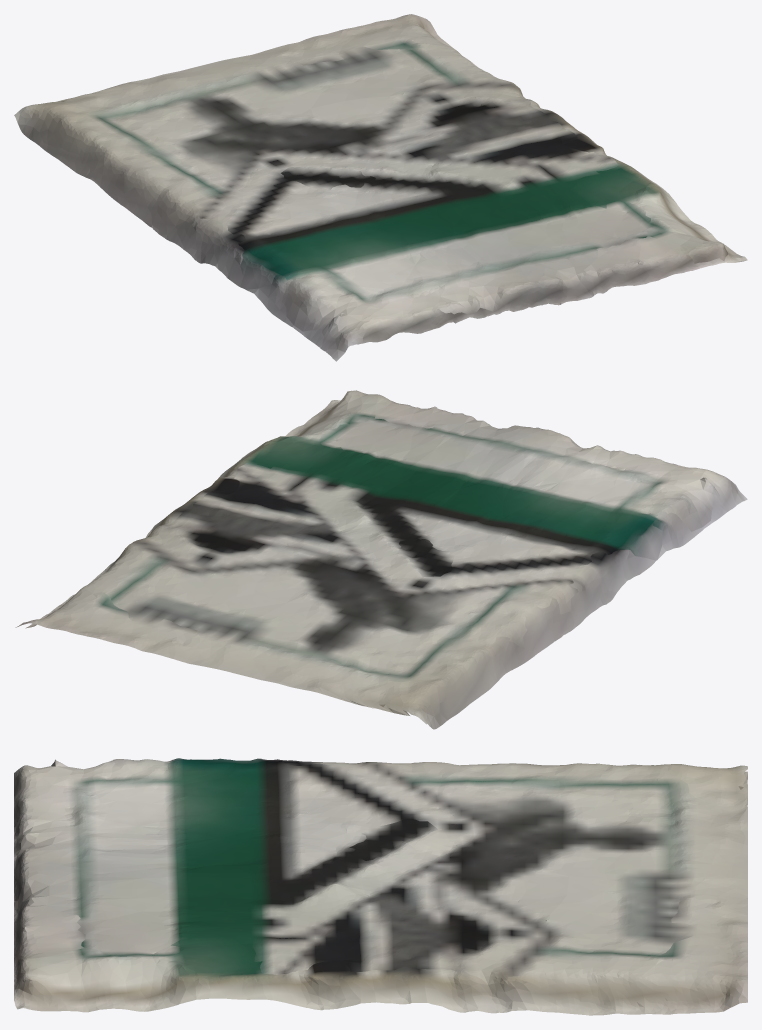
The model's file is RJC student handbook (1994) (drkoh edited).glb.
The picture shows the model from 3 angles, top to bottom: view 1: azimuth 30°, elevation 25°; view 2: azimuth 150°, elevation 25°; view 3: azimuth 270°, elevation 25°; orthographic projection. The views are drawn at different scales.
Parts seen in each view (by area): view 1: mesh; view 2: mesh; view 3: mesh.
Part boxes in pixels (bbox=[...]): mesh: bbox=[14, 14, 747, 361]; mesh: bbox=[15, 390, 747, 729]; mesh: bbox=[14, 758, 747, 1015].
Size of the model in its own units: 0.1627 by 0.0132 by 0.2198.
Materials: 1 (1 with a texture image).
